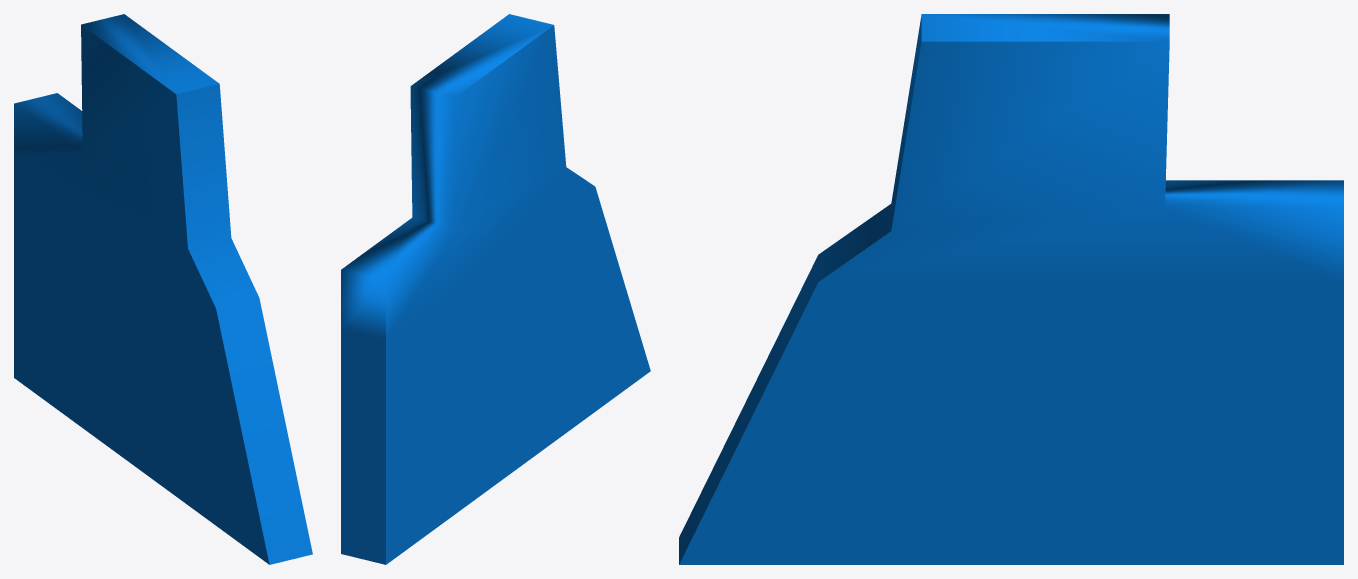
The model's file is Wall_Break_01A_Collider.fbx.
3 views of the same model, side by side, from view 1: azimuth 30°, elevation 25°; view 2: azimuth 150°, elevation 25°; view 3: azimuth 270°, elevation 25° (orthographic). The views are drawn at different scales.
Visible parts, largest first — view 1: Wall_Break_01A_Collider; view 2: Wall_Break_01A_Collider; view 3: Wall_Break_01A_Collider.
Part boxes in pixels (<box>): Wall_Break_01A_Collider: <box>14,14,312,564</box>; Wall_Break_01A_Collider: <box>341,14,650,564</box>; Wall_Break_01A_Collider: <box>679,14,1343,564</box>.
Size of the model in its own units: 142 by 1257 by 1447.
